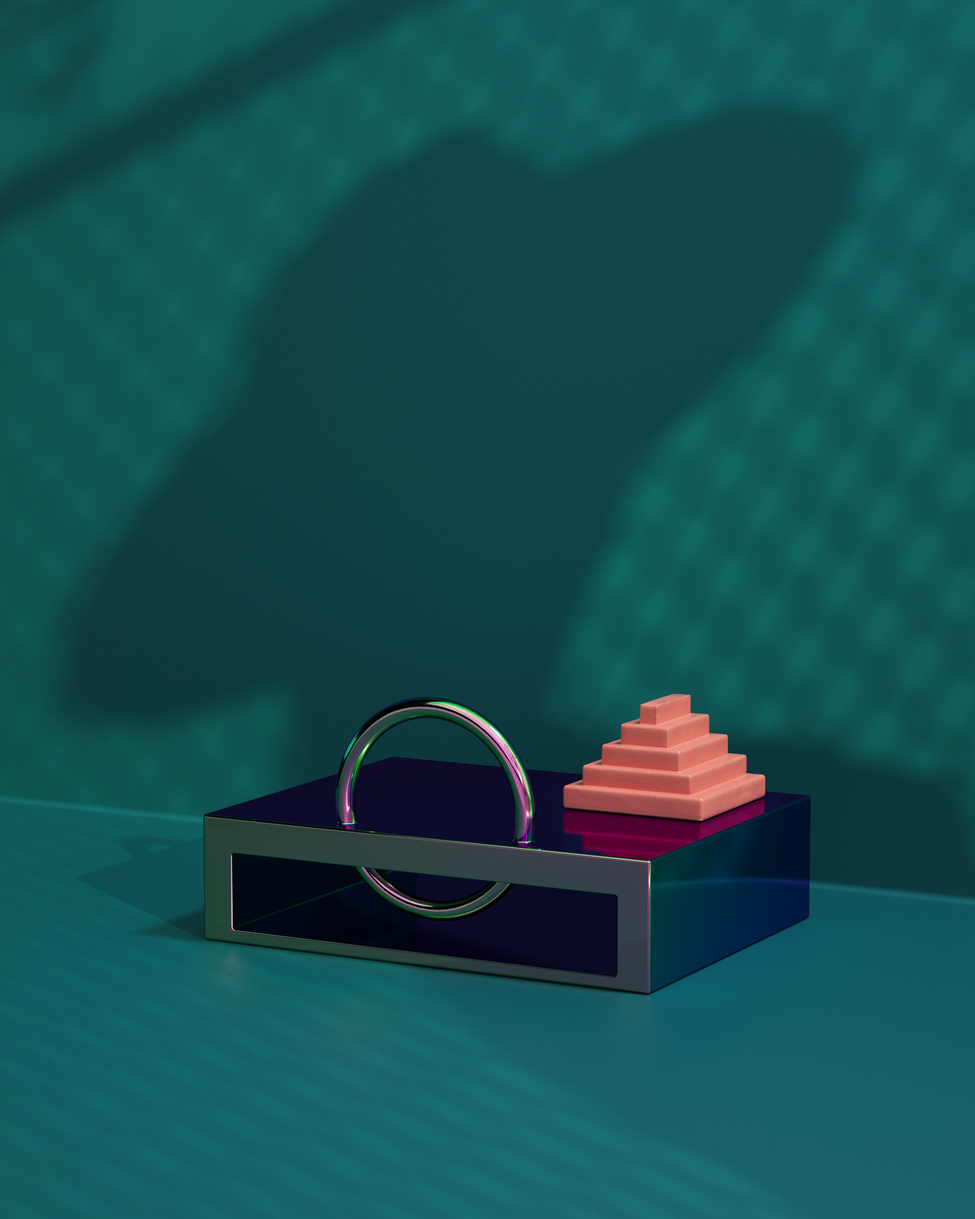not a gesture sign: (69, 110, 850, 775)
